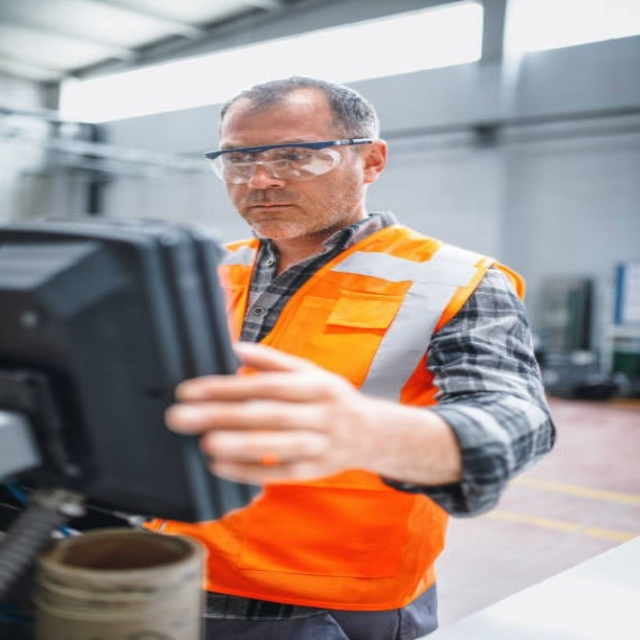Gafas: (203, 139, 374, 182)
Sin_guantes: (163, 339, 390, 487)
Sin_mascara: (238, 196, 309, 234)
